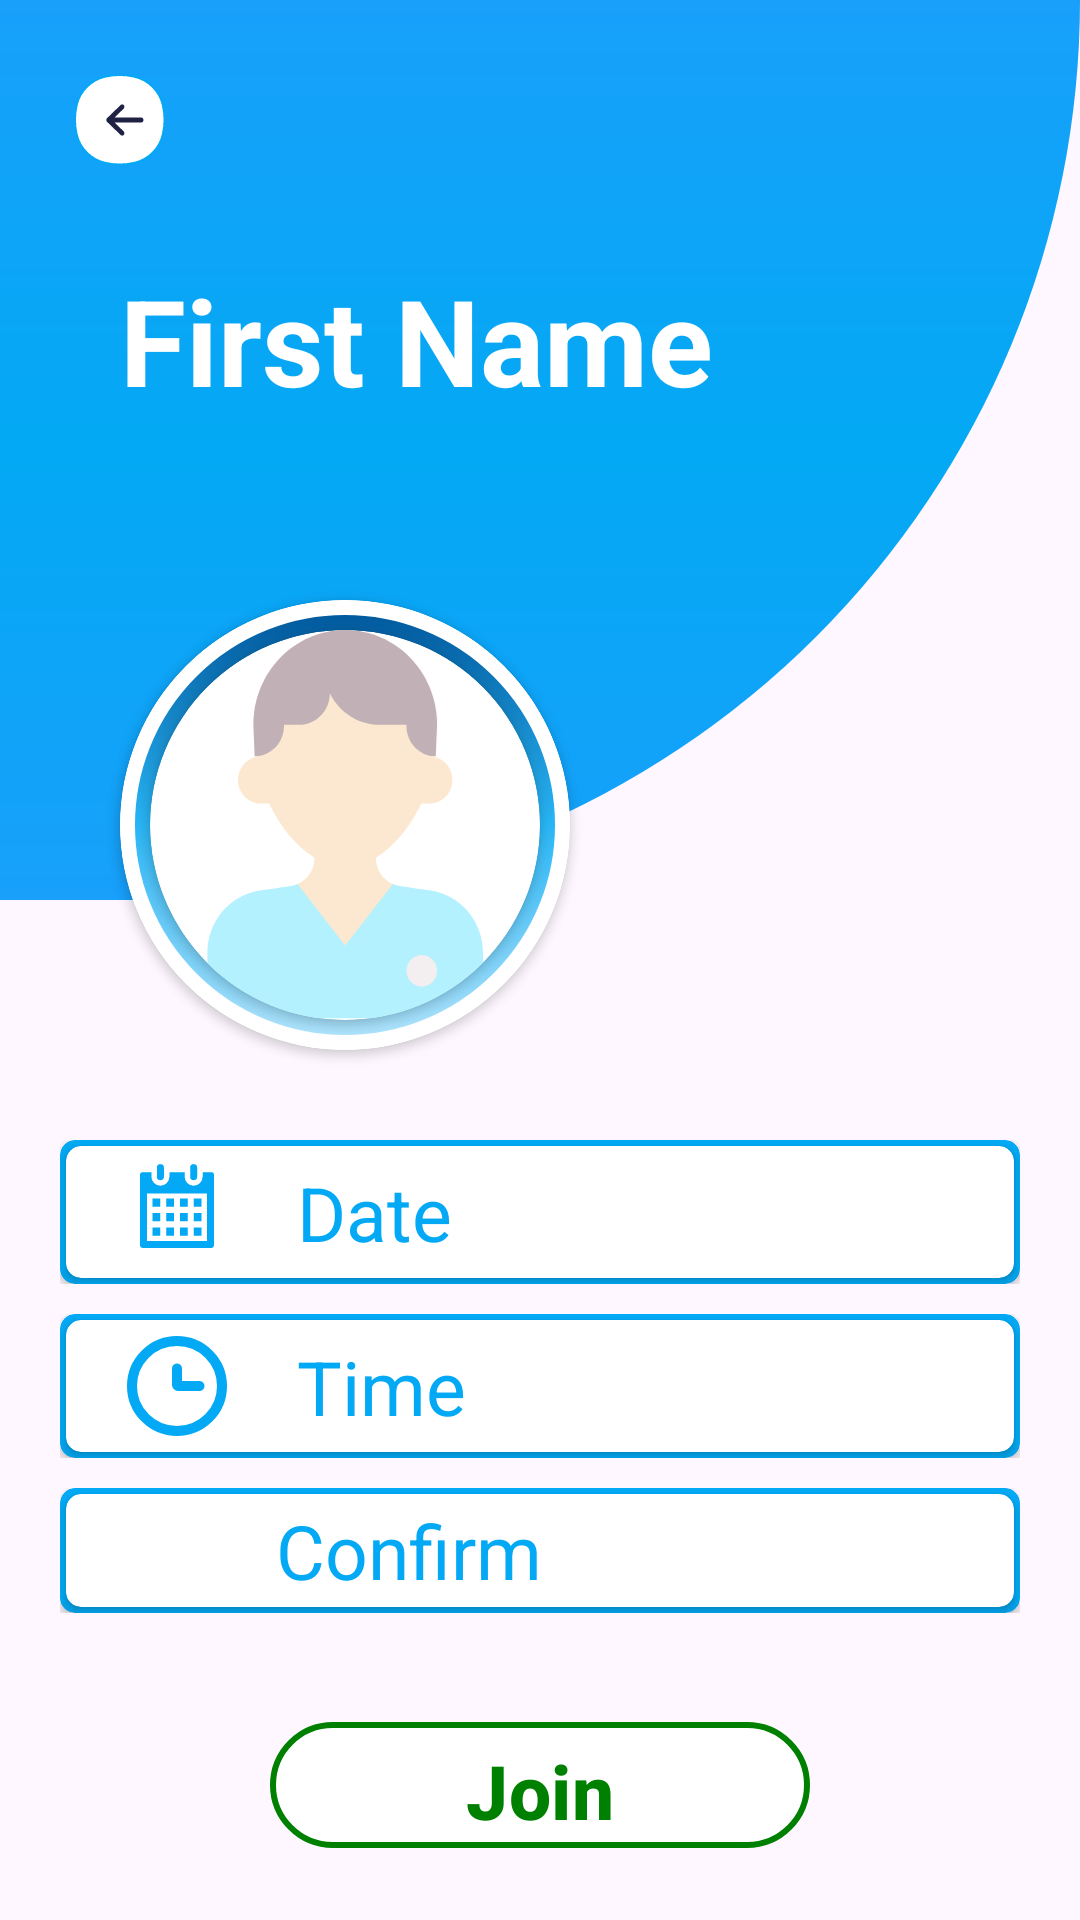

Screen size 1080*1920. Icon name, then its center in pixels as [x,y]:
back: [120,120]
